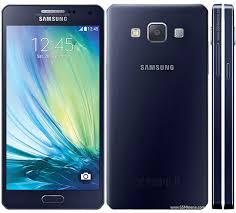samsung: (105, 1, 210, 211), (1, 2, 105, 213)
